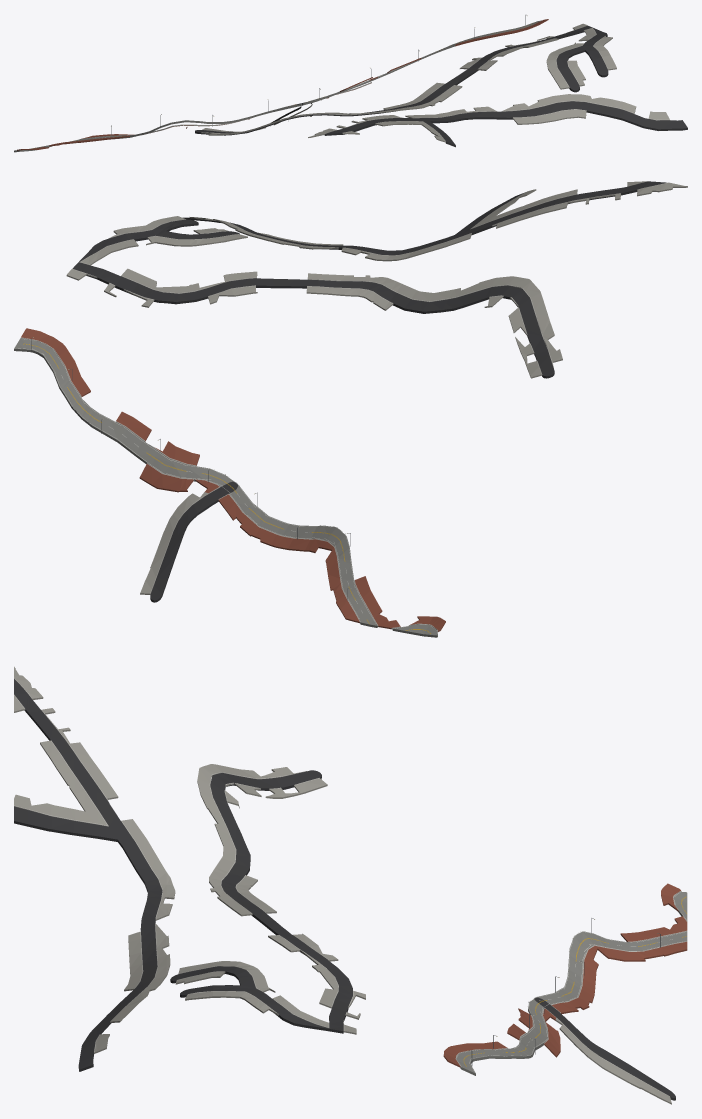
3 views of the same model, one above another, from view 1: azimuth 30°, elevation 25°; view 2: azimuth 150°, elevation 25°; view 3: azimuth 270°, elevation 25° (orthographic). The views are drawn at different scales.
Bounding box in the file's own units: 293 × 143 × 292.
